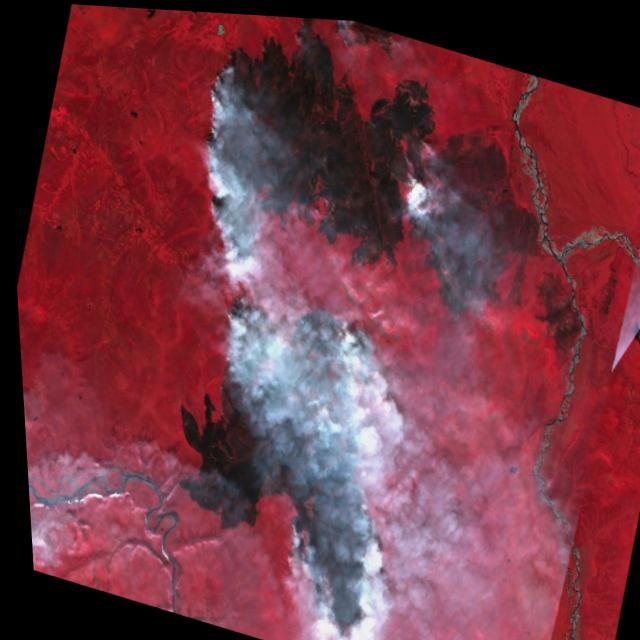fire: (140, 267, 444, 640), (158, 30, 301, 259), (369, 130, 433, 208)
